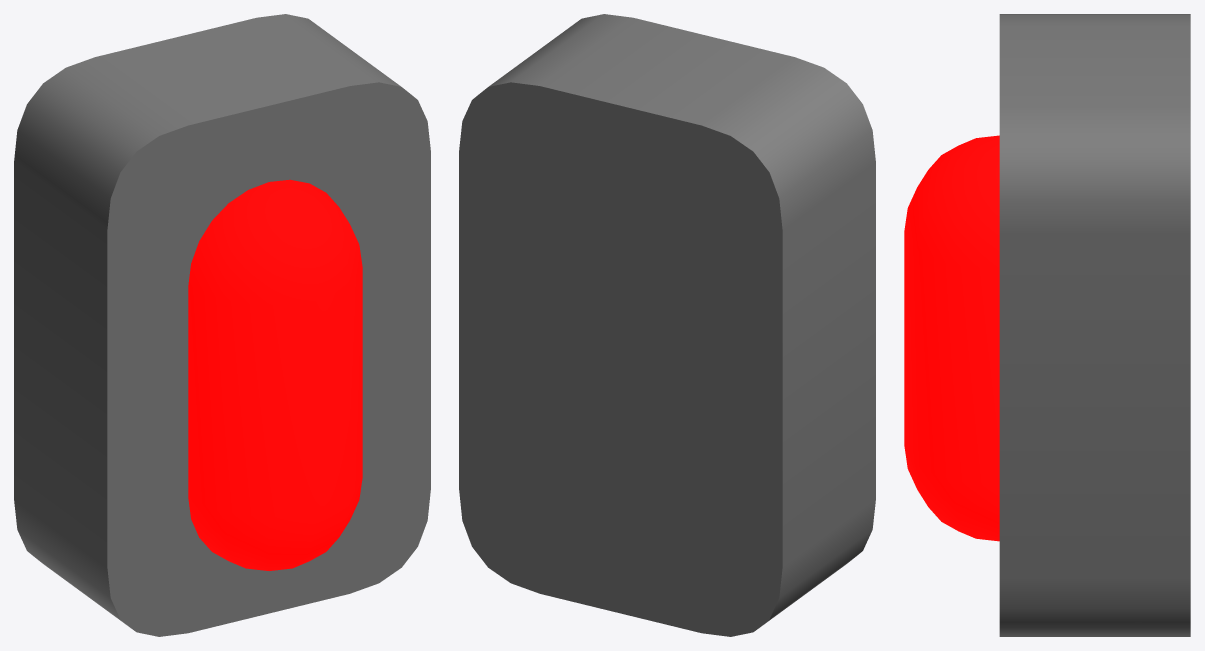
File: SignalLight.FBX
3 renders of one model, left to right at view 1: azimuth 30°, elevation 25°; view 2: azimuth 150°, elevation 25°; view 3: azimuth 270°, elevation 25°, orthographic. The views are drawn at different scales.
Parts seen in each view (by area): view 1: Box001, Capsule001; view 2: Box001; view 3: Box001, Capsule001.
Part boxes in pixels (left/top/right/bottom): Box001: left=14, top=14, right=430, bottom=636; Capsule001: left=188, top=179, right=362, bottom=570; Box001: left=459, top=14, right=875, bottom=636; Box001: left=999, top=14, right=1190, bottom=636; Capsule001: left=904, top=135, right=999, bottom=541.
Size of the model in its own units: 2 by 3 by 1.5.
